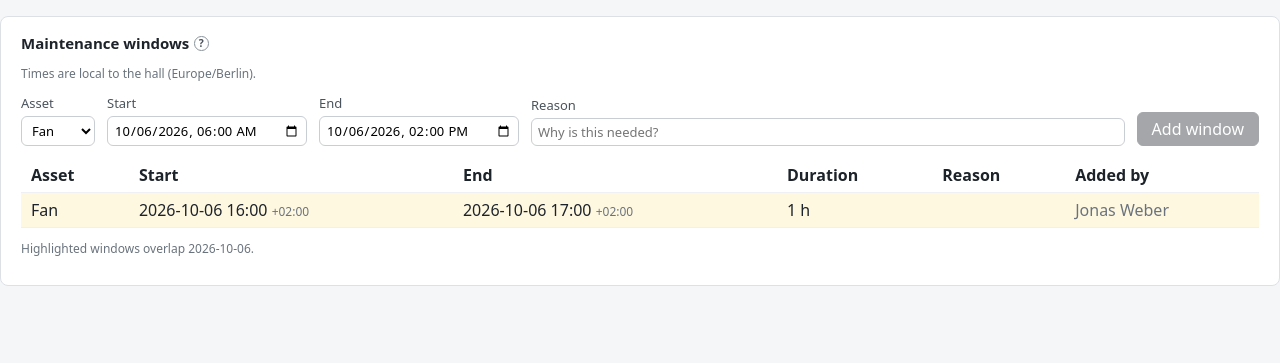
Test case: P23: a successful save says so
The width and height of the screenshot is (1280, 363).
Type "Belt change" into the field named "reason" at {"x": 828, "y": 132}, box 531,118 -> 1125,146
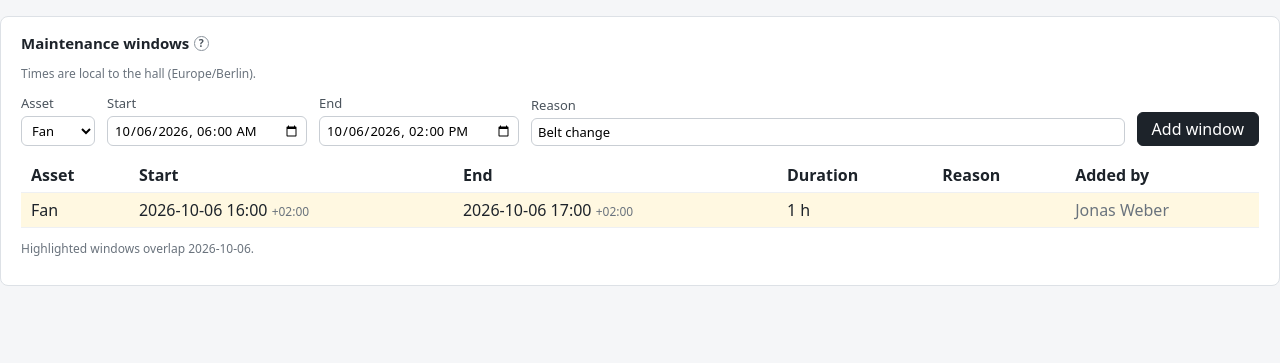
Submit the form, box 21,94 -> 1259,146
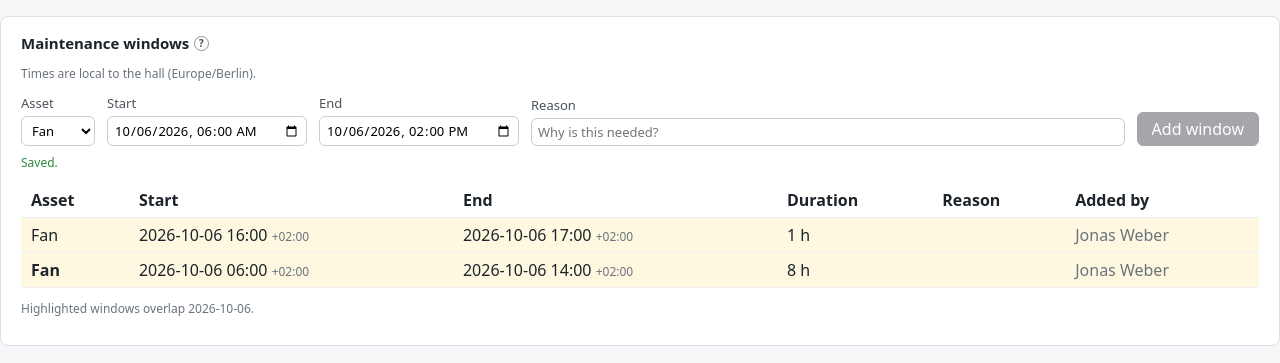
Result: the message "Saved." is shown at 21,154 -> 58,171
